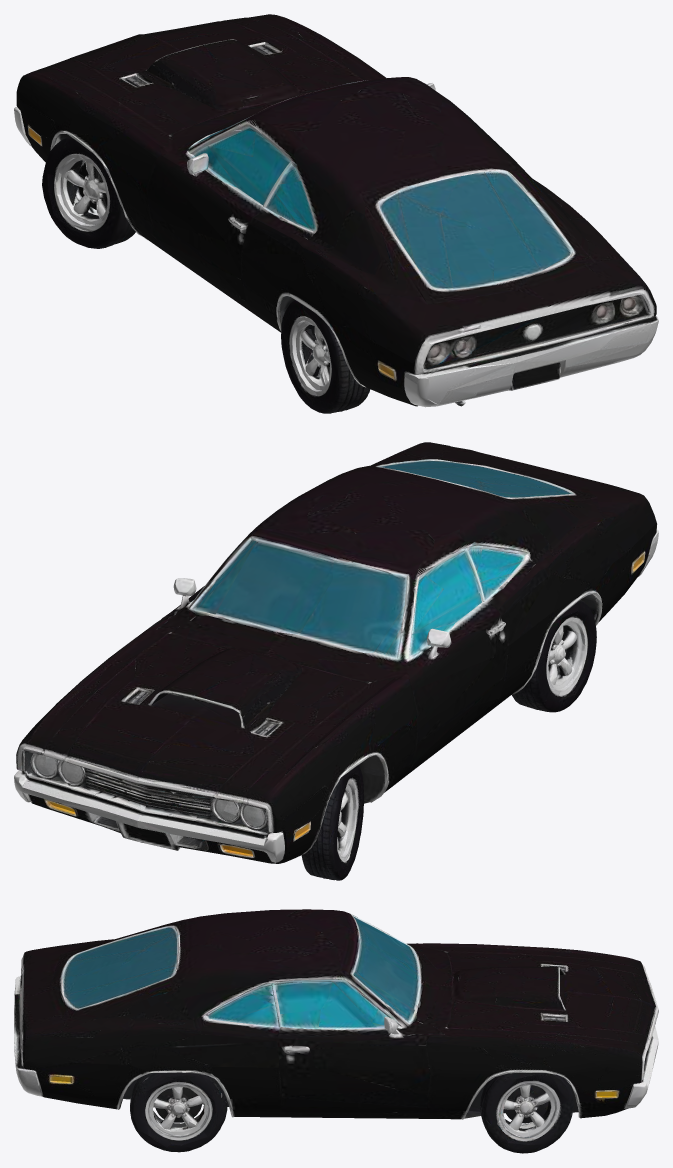
The model's file is car_muscle.glb.
The picture shows the model from 3 angles, top to bottom: view 1: azimuth 30°, elevation 25°; view 2: azimuth 150°, elevation 25°; view 3: azimuth 270°, elevation 25°; orthographic projection. The views are drawn at different scales.
Bounding box in the file's own units: 1.82 × 1.31 × 4.5.
Materials: 1 (1 with a texture image).
